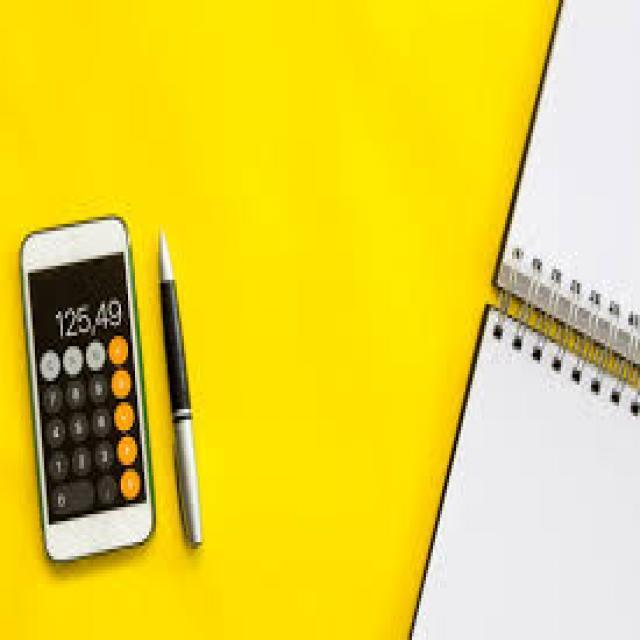Calculator: (19, 212, 158, 566)
